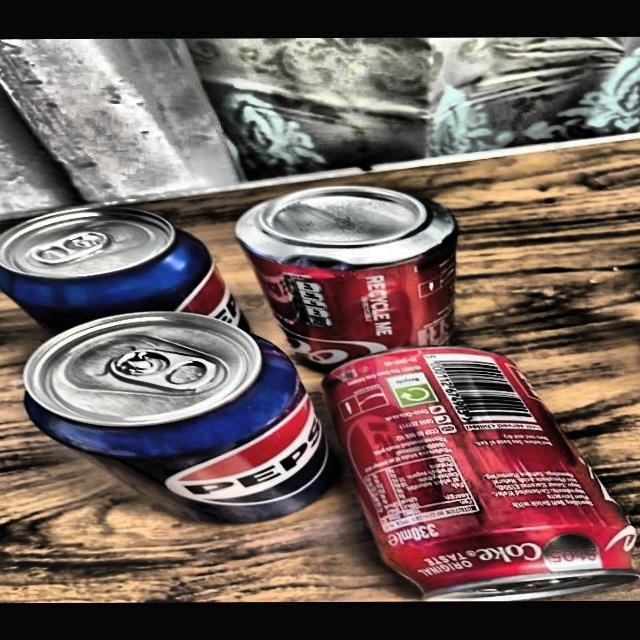coke-can: (330, 349, 634, 604), (237, 186, 458, 372)
pepsi-can: (21, 313, 342, 523), (10, 212, 256, 348)
